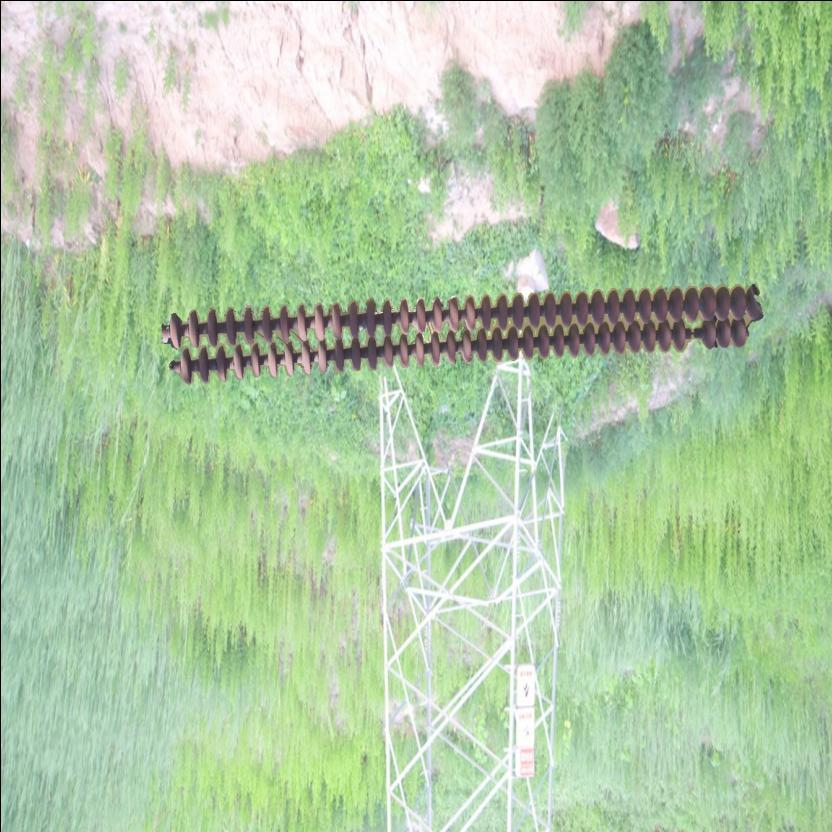defect: (669, 318, 717, 355)
